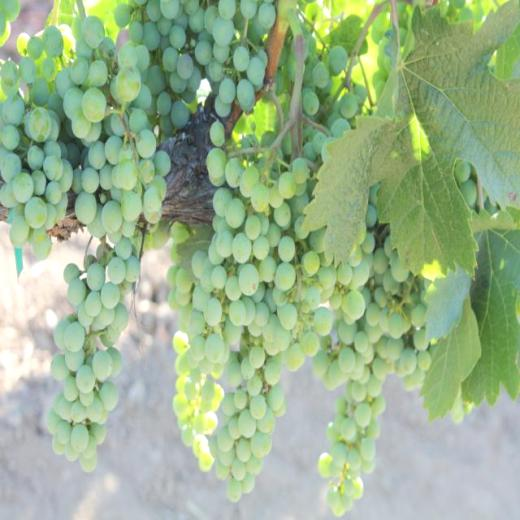Orange: (0, 0, 444, 519), (459, 178, 476, 206), (455, 160, 471, 183), (476, 188, 488, 204)
